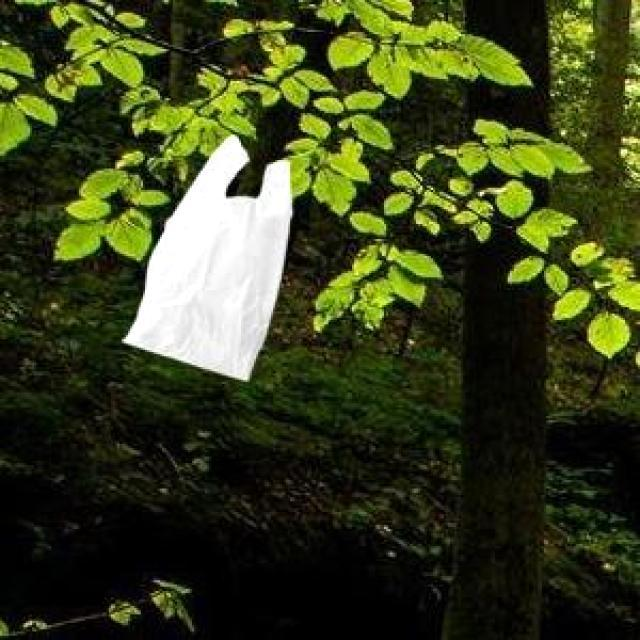Plastic_Bag: (120, 134, 290, 376)
